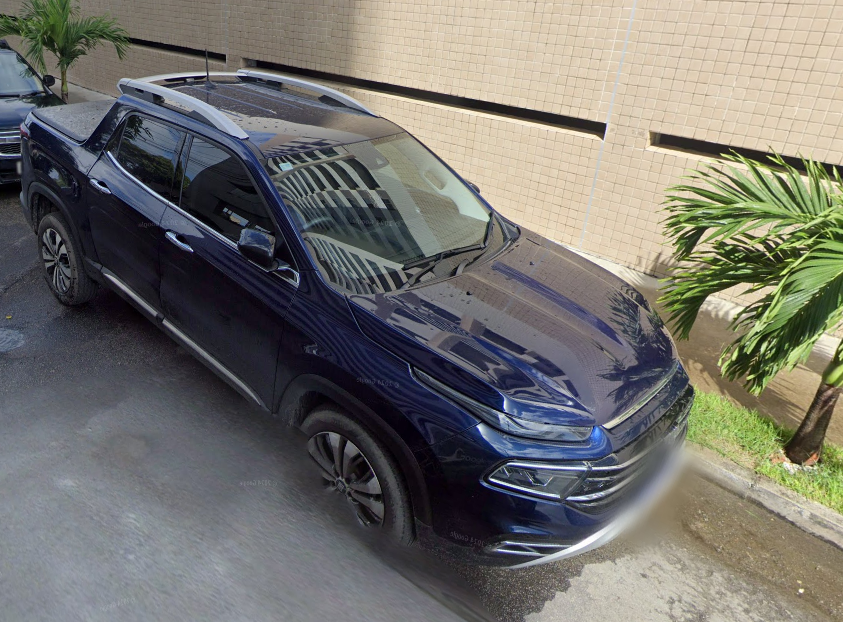car: (16, 65, 705, 592)
